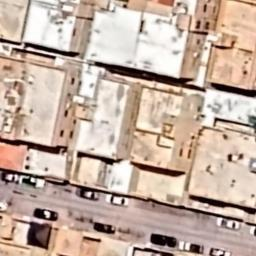pickup: (34, 207, 58, 220), (19, 176, 44, 188)
sedan: (150, 233, 176, 247), (105, 194, 129, 206), (76, 188, 99, 200), (93, 222, 115, 234), (0, 173, 18, 182), (249, 225, 256, 235)
truck: (178, 240, 204, 254), (216, 218, 240, 230)
van: (210, 248, 231, 256)
